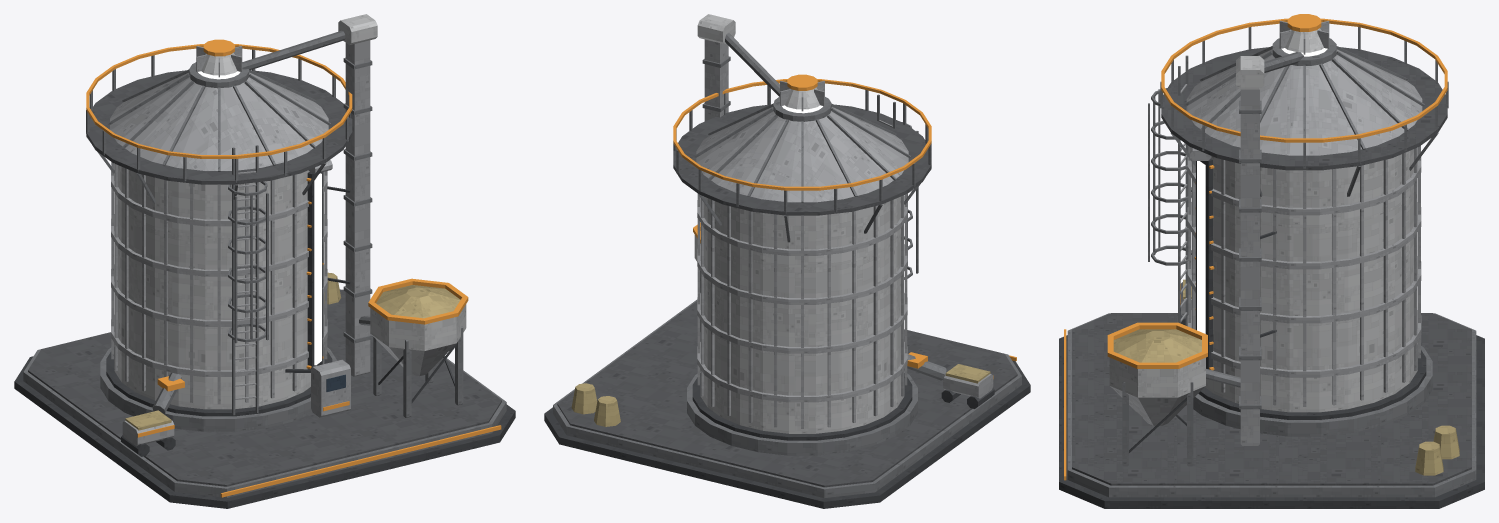
The model's file is silo_lod1.glb.
3 views of the same model, side by side, from view 1: azimuth 30°, elevation 25°; view 2: azimuth 150°, elevation 25°; view 3: azimuth 270°, elevation 25° (orthographic). The views are drawn at different scales.
Parts seen in each view (by area): view 1: silo_base_body.001, silo_base_trim.001, silo_gauge_glow.001, silo_vent_body.001; view 2: silo_base_body.001, silo_base_trim.001, silo_vent_body.001; view 3: silo_base_body.001, silo_base_trim.001, silo_gauge_glow.001, silo_vent_body.001, silo_vent_trim.001.
Part boxes in pixels (x1,y1,x2,y2): silo_base_body.001: (14,14,515,508); silo_base_trim.001: (86,44,501,497); silo_gauge_glow.001: (314,173,321,365); silo_vent_body.001: (196,46,242,77); silo_base_body.001: (544,14,1030,508); silo_base_trim.001: (673,79,1016,378); silo_vent_body.001: (780,81,824,111); silo_base_body.001: (1059,27,1484,508); silo_base_trim.001: (1064,18,1447,480); silo_gauge_glow.001: (1197,161,1205,333); silo_vent_body.001: (1279,20,1329,54); silo_vent_trim.001: (1287,14,1321,31).
Bounding box in the file's own units: 3.96 × 4.05 × 3.92.
3 materials, 1 textured.
